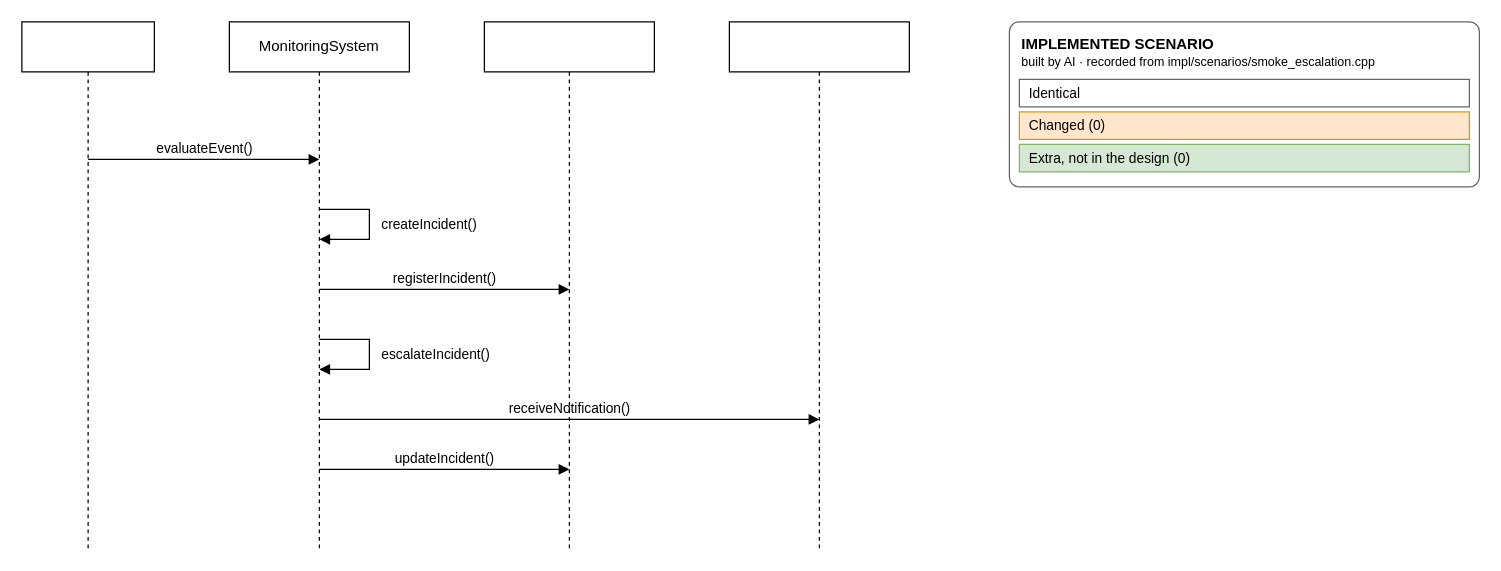
Some shapes in this 1501 by 571 pixel diagram are drawn without their labels. The box of each missing label's shape, as (x1, y1, x2, y2) in pixels:
EmergencyContact: (728, 21, 909, 549)
IncidentHistory: (483, 21, 654, 549)
SmokeSensor: (21, 21, 154, 549)
